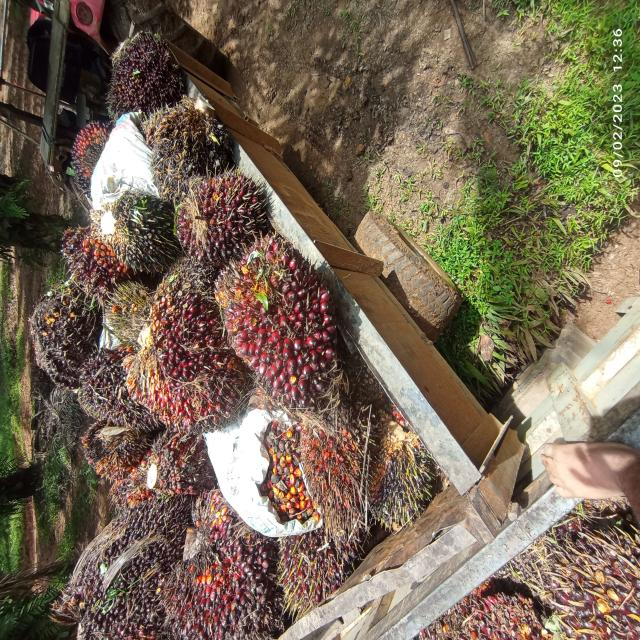fraksi 00: (44, 488, 192, 640), (360, 401, 440, 545), (98, 13, 184, 125), (100, 178, 192, 280), (150, 98, 235, 206), (26, 286, 109, 388), (79, 348, 123, 421)
fraksi 1: (158, 484, 282, 640), (169, 169, 270, 263), (270, 526, 348, 608)
fraksi 3: (193, 236, 355, 412), (116, 279, 258, 443)
fraksi 4: (296, 412, 364, 550)
